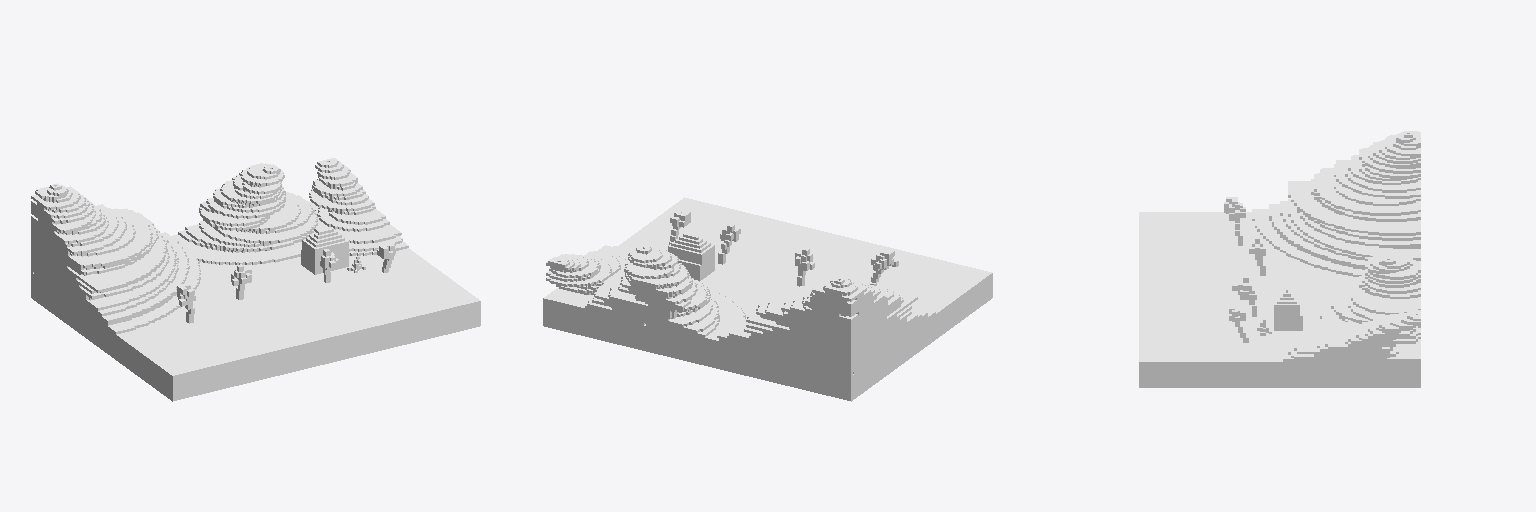
File: vikingenvironment.obj
The picture shows the model from 3 angles: view 1: azimuth 30°, elevation 25°; view 2: azimuth 150°, elevation 25°; view 3: azimuth 270°, elevation 25°; orthographic projection.
Bounding box in the file's own units: 126 × 44 × 100.